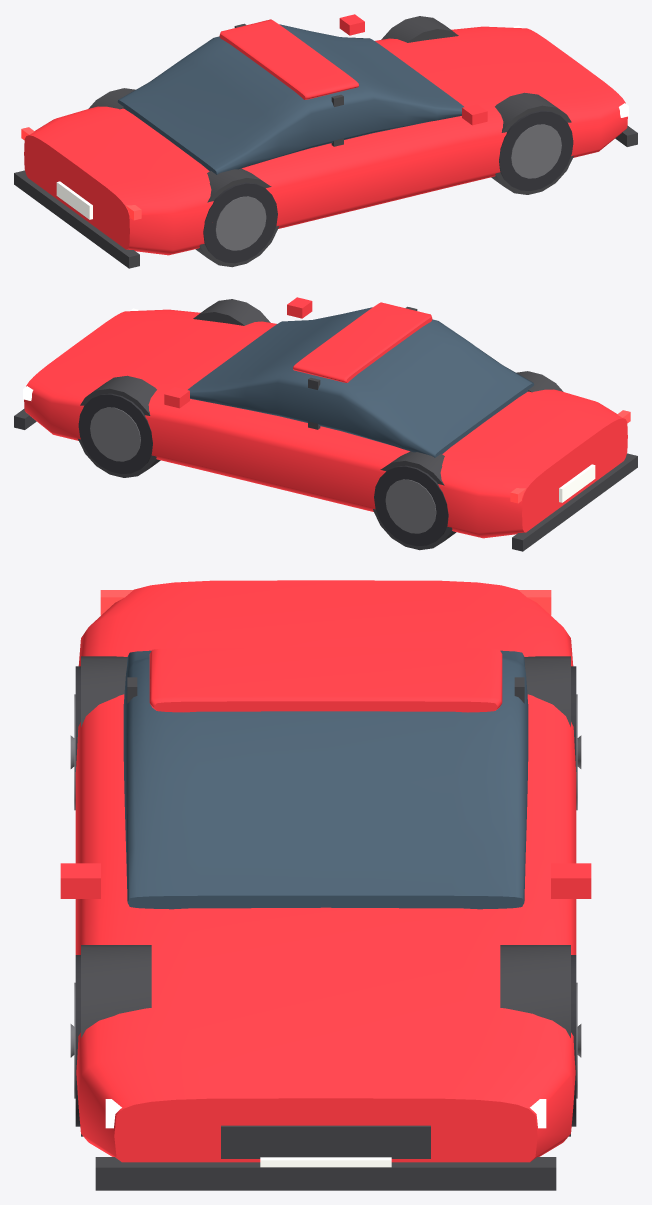
Rendered from car-sports.glb.
The picture shows the model from 3 angles, top to bottom: view 1: azimuth 30°, elevation 25°; view 2: azimuth 150°, elevation 25°; view 3: azimuth 270°, elevation 25°; orthographic projection. The views are drawn at different scales.
Parts seen in each view (by area): view 1: body, wheelRR, wheelFR; view 2: body, wheelRL, wheelFL; view 3: body, wheelFL, wheelFR.
Part boxes in pixels (<box>): body: <box>14,14,637,268</box>; wheelRR: <box>203,182,277,263</box>; wheelFR: <box>499,110,573,190</box>; body: <box>14,297,637,551</box>; wheelRL: <box>374,465,448,546</box>; wheelFL: <box>78,393,152,473</box>; body: <box>60,580,591,1190</box>; wheelFL: <box>571,955,581,1126</box>; wheelFR: <box>70,955,80,1126</box>.
Bounding box in the file's own units: 4.65 × 1.2 × 2.1.
